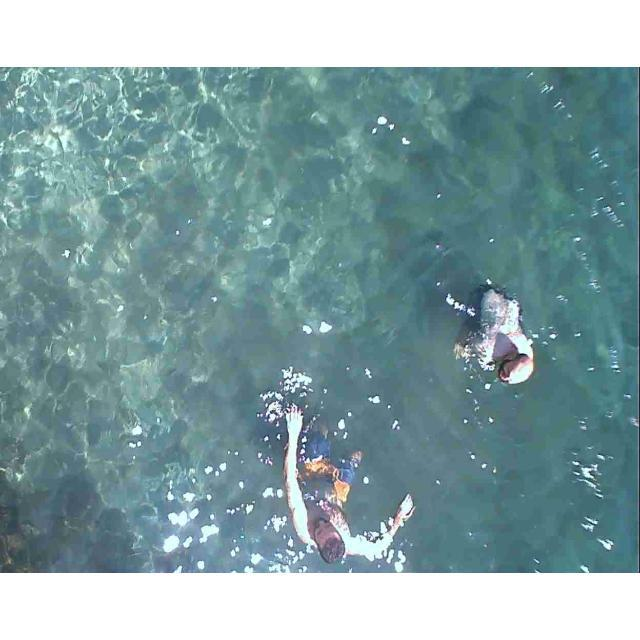human: (281, 395, 410, 566), (459, 266, 536, 400)
